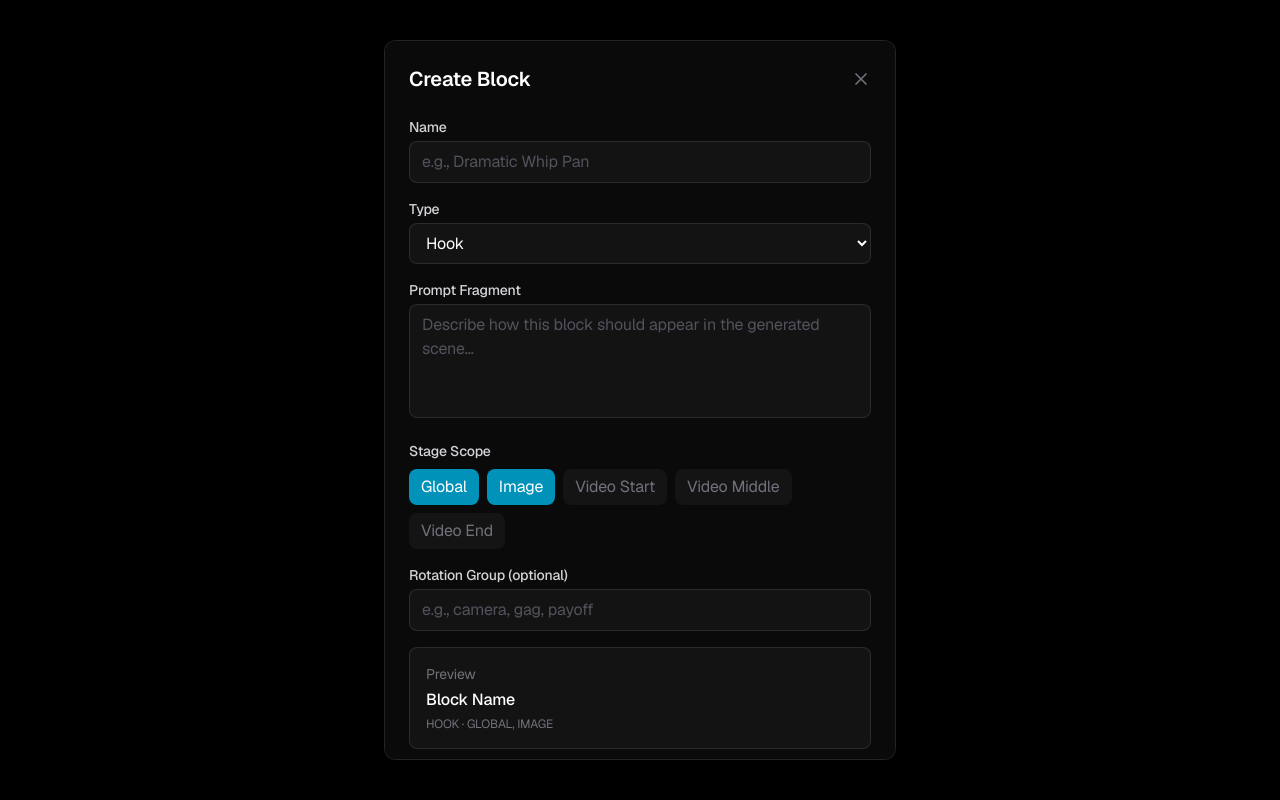
Test: CreateBlockModal › Form Validation › shows error for duplicate name
Fill all required fields (GLOBAL is already selected for HOOK type)
Type "Existing Block" into the field labelled "Name" at (640, 162), box [409,141,871,183]
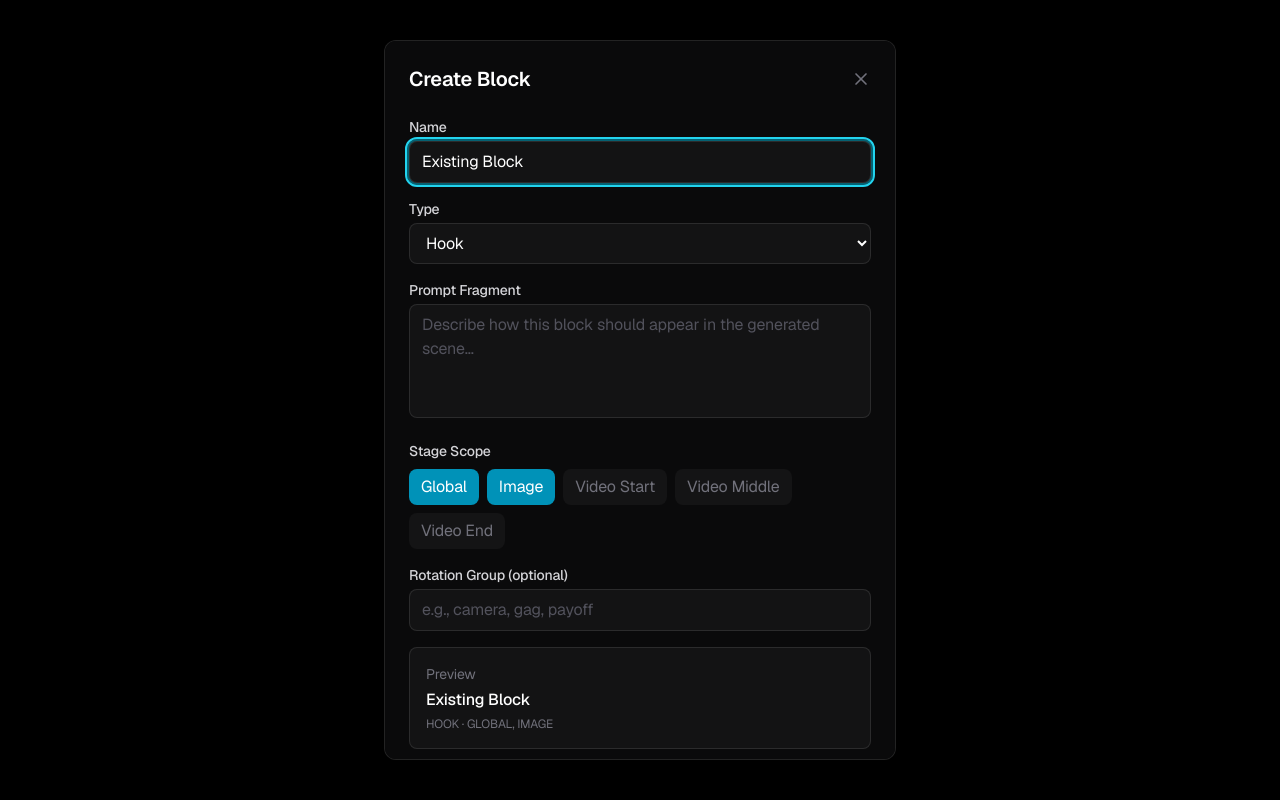
Type "This is a valid prompt fragment" into the text box labelled "Prompt Fragment" at (640, 361), box [409,304,871,418]
(page scrolled)
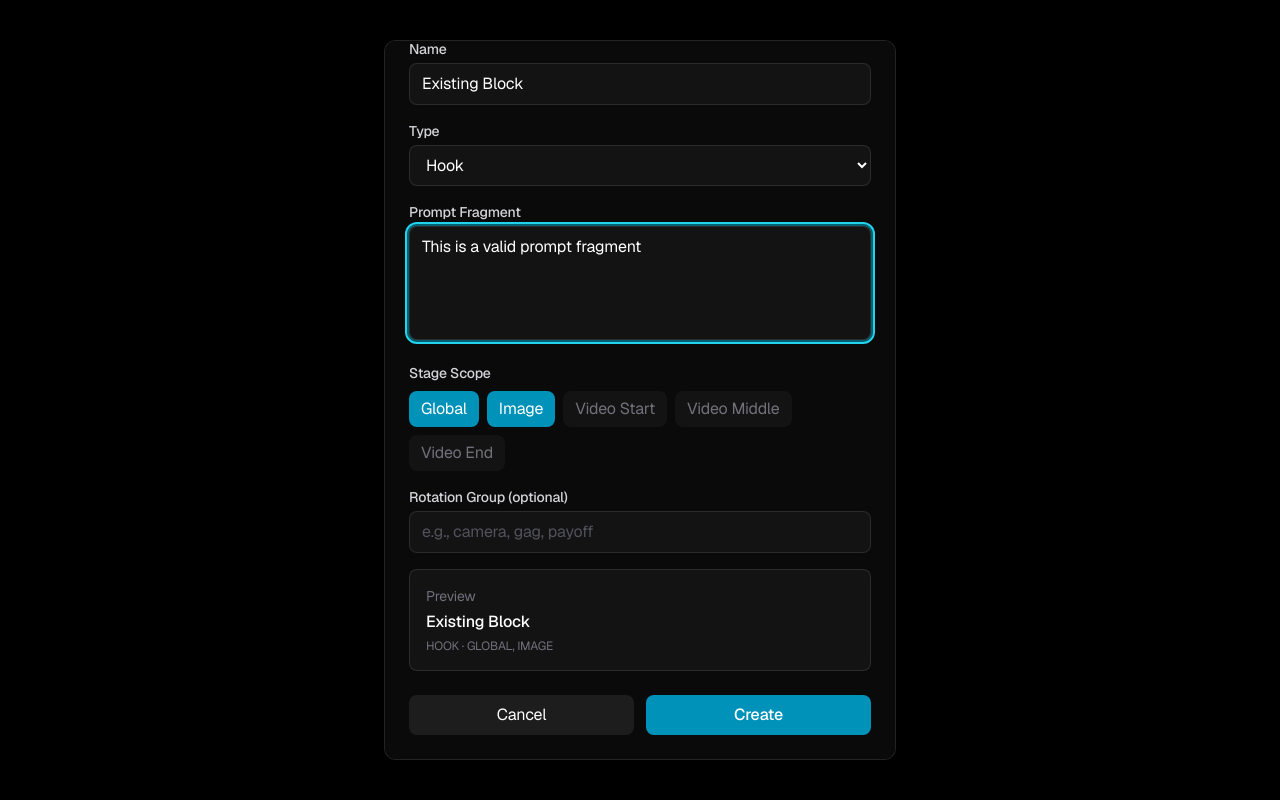
Click the button "Create" at (758, 715), box [646,695,871,735]
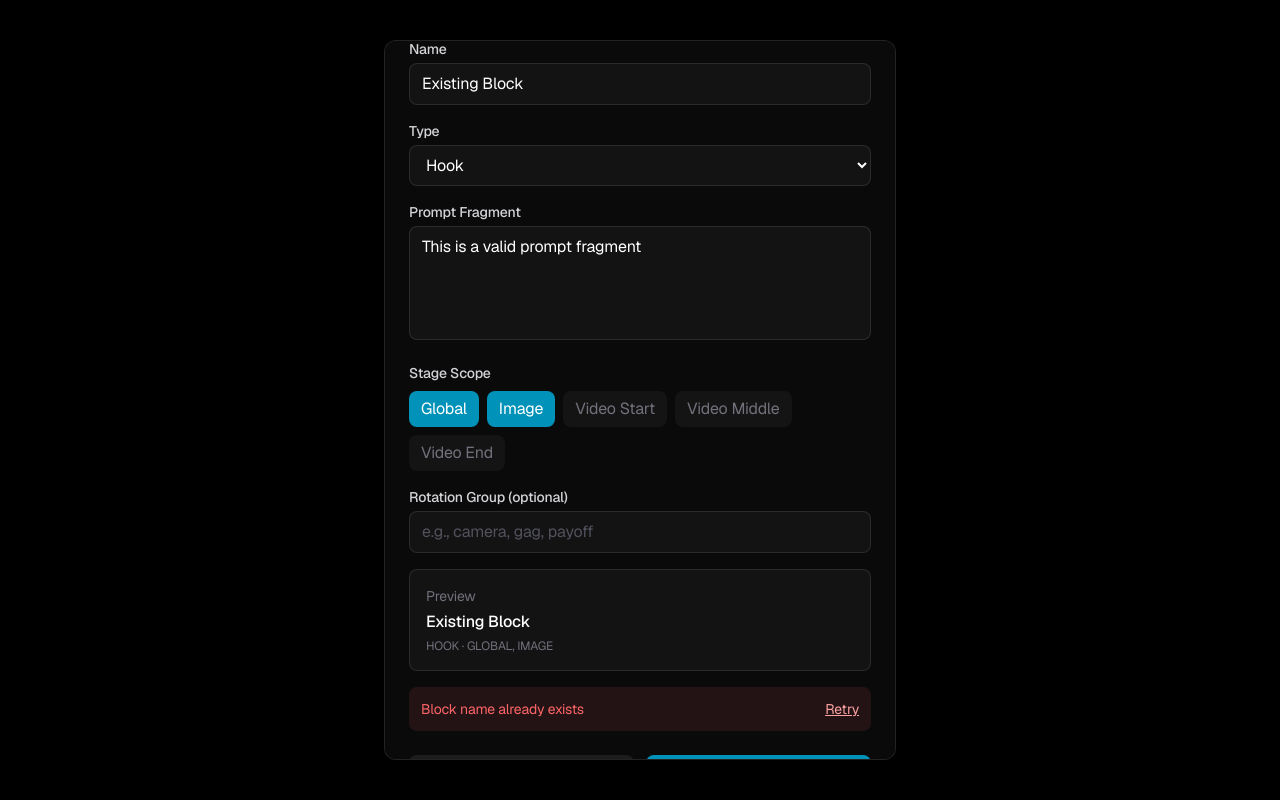
Result: the text "Block name already exists" is shown at [421,699,584,719]
